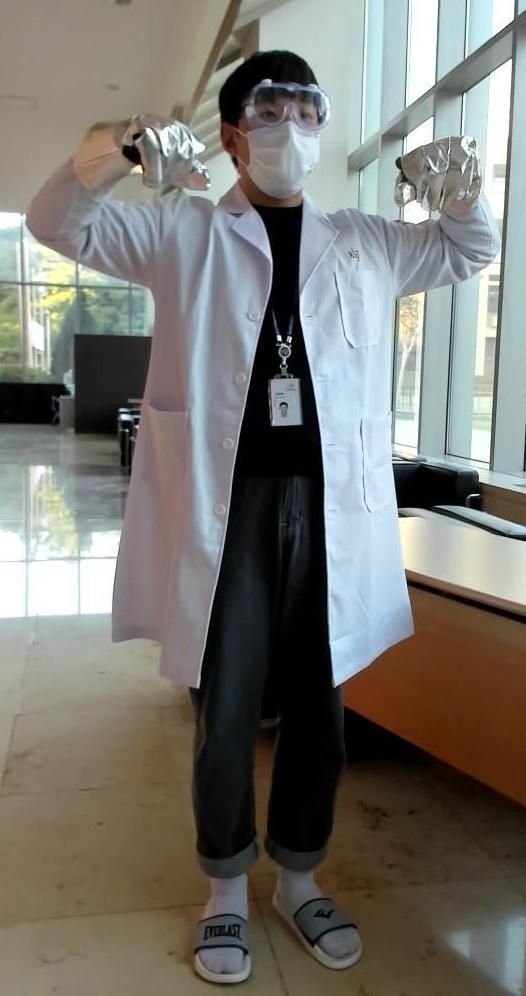lab_coat: (128, 218, 406, 692)
